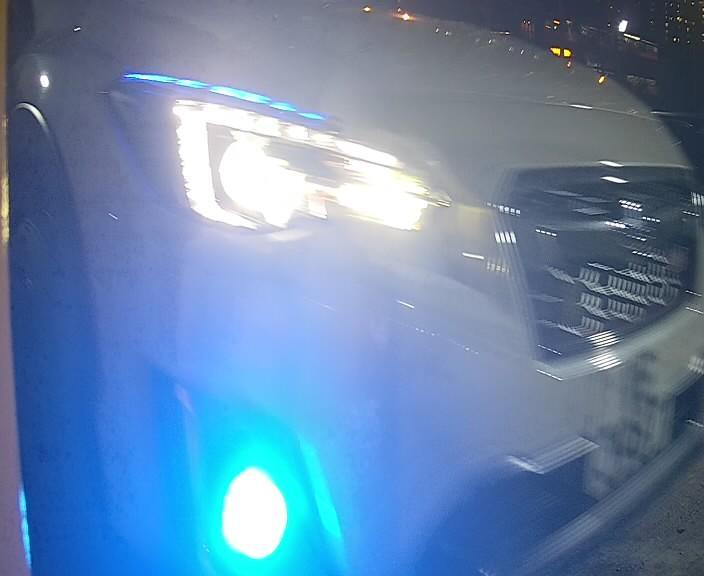privatecar: (4, 2, 696, 568)
